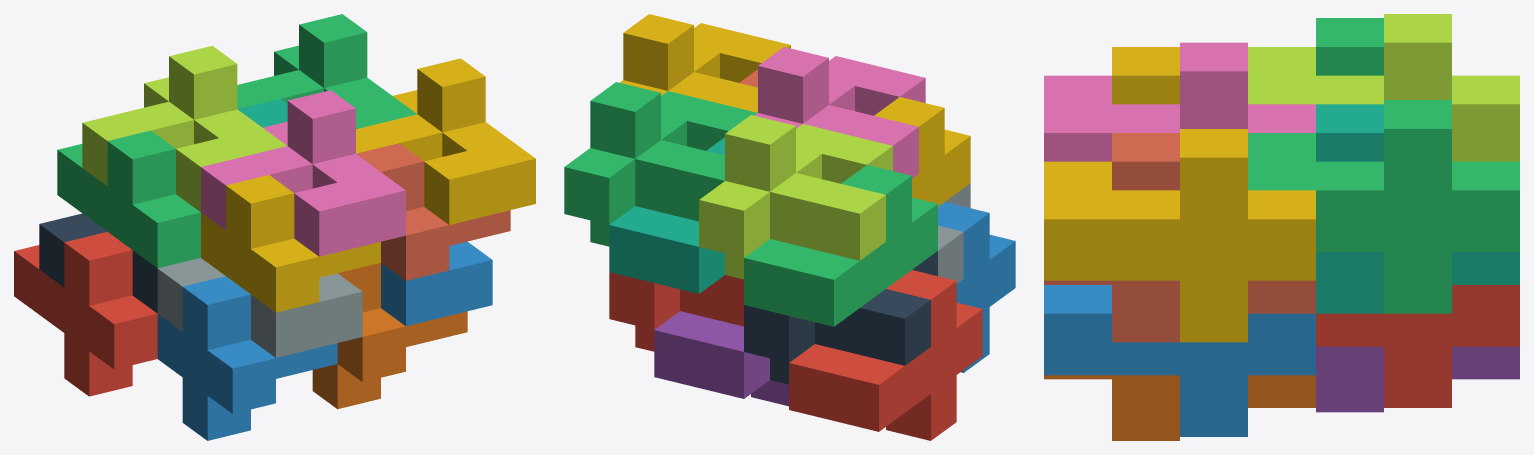
Rendered from tiling.obj.
3 views of the same model, side by side, from view 1: azimuth 30°, elevation 25°; view 2: azimuth 150°, elevation 25°; view 3: azimuth 270°, elevation 25° (orthographic). The views are drawn at different scales.
Parts seen in each view (by area): view 1: copy_2_domain_4, copy_2_domain_8, copy_1_domain_1, copy_1_domain_2, copy_2_domain_3, copy_1_domain_3, copy_1_domain_4, copy_2_domain_7, copy_1_domain_6, copy_2_domain_2, copy_1_domain_8, copy_2_domain_6 (+2 smaller); view 2: copy_2_domain_3, copy_2_domain_7, copy_1_domain_1, copy_1_domain_3, copy_2_domain_4, copy_2_domain_8, copy_2_domain_1, copy_1_domain_5, copy_1_domain_7, copy_2_domain_5, copy_1_domain_2, copy_1_domain_4 (+1 smaller); view 3: copy_2_domain_8, copy_2_domain_7, copy_2_domain_6, copy_2_domain_3, copy_2_domain_4, copy_2_domain_5, copy_1_domain_8, copy_1_domain_7, copy_1_domain_6, copy_1_domain_5, copy_1_domain_3, copy_1_domain_4.
Boxes of the visible parts, left/top/right/bottom form: copy_2_domain_4: left=201, top=90, right=405, bottom=256; copy_2_domain_8: left=356, top=58, right=535, bottom=224; copy_1_domain_1: left=14, top=231, right=157, bottom=396; copy_1_domain_2: left=157, top=276, right=337, bottom=440; copy_2_domain_3: left=82, top=45, right=286, bottom=212; copy_1_domain_3: left=57, top=130, right=200, bottom=268; copy_1_domain_4: left=201, top=175, right=380, bottom=312; copy_2_domain_7: left=237, top=14, right=416, bottom=128; copy_1_domain_6: left=312, top=262, right=467, bottom=409; copy_2_domain_2: left=157, top=258, right=362, bottom=357; copy_1_domain_8: left=356, top=143, right=510, bottom=280; copy_2_domain_6: left=381, top=241, right=492, bottom=326; copy_2_domain_3: left=699, top=115, right=892, bottom=279; copy_2_domain_7: left=564, top=82, right=757, bottom=246; copy_1_domain_1: left=789, top=270, right=982, bottom=440; copy_1_domain_3: left=744, top=165, right=937, bottom=326; copy_2_domain_4: left=755, top=47, right=925, bottom=178; copy_2_domain_8: left=619, top=14, right=790, bottom=112; copy_2_domain_1: left=744, top=251, right=937, bottom=384; copy_1_domain_5: left=654, top=311, right=788, bottom=406; copy_1_domain_7: left=609, top=137, right=724, bottom=293; copy_2_domain_5: left=609, top=272, right=743, bottom=351; copy_1_domain_2: left=938, top=202, right=1015, bottom=372; copy_1_domain_4: left=874, top=97, right=970, bottom=206; copy_2_domain_8: left=1044, top=129, right=1315, bottom=342; copy_2_domain_7: left=1248, top=100, right=1519, bottom=313; copy_2_domain_6: left=1044, top=285, right=1315, bottom=436; copy_2_domain_3: left=1248, top=14, right=1519, bottom=161; copy_2_domain_4: left=1044, top=42, right=1315, bottom=161; copy_2_domain_5: left=1316, top=285, right=1519, bottom=407; copy_1_domain_8: left=1044, top=133, right=1315, bottom=342; copy_1_domain_7: left=1316, top=104, right=1519, bottom=313; copy_1_domain_6: left=1044, top=375, right=1315, bottom=440; copy_1_domain_5: left=1316, top=346, right=1519, bottom=412; copy_1_domain_3: left=1316, top=18, right=1383, bottom=75; copy_1_domain_4: left=1112, top=47, right=1179, bottom=104.
Size of the model in its own units: 8 by 6 by 7.
